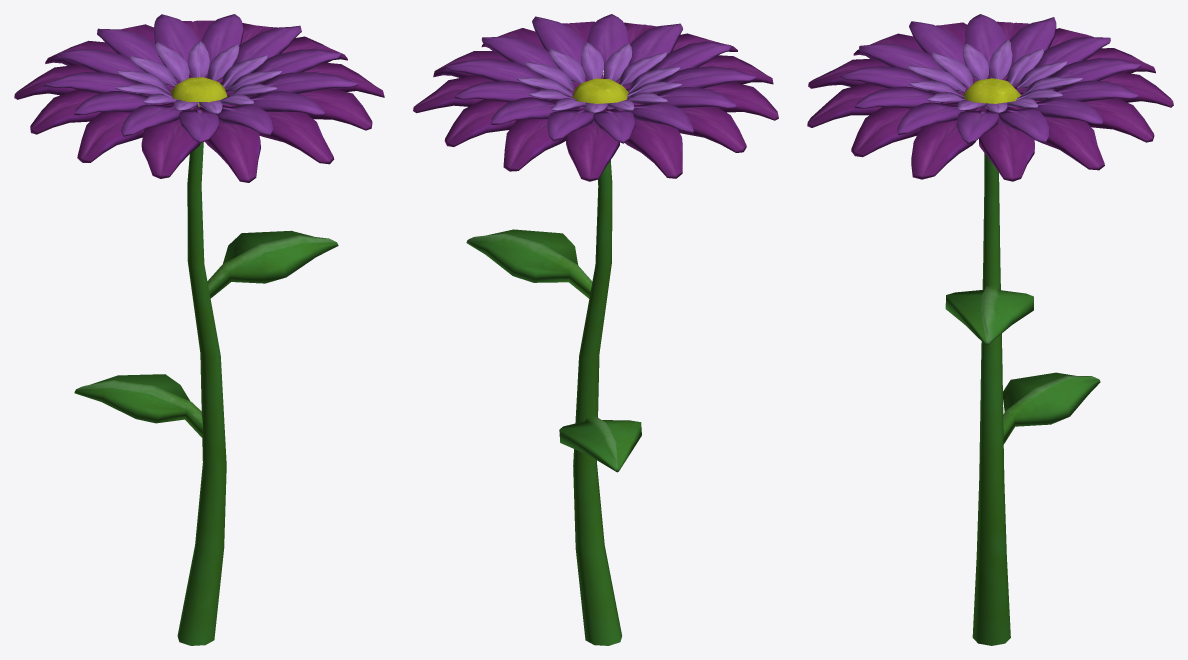
The model's file is FlorRoxa.fbx.
3 views of the same model, side by side, from view 1: azimuth 30°, elevation 25°; view 2: azimuth 150°, elevation 25°; view 3: azimuth 270°, elevation 25° (orthographic).
Visible parts, largest first — view 1: FlorRoxa; view 2: FlorRoxa; view 3: FlorRoxa.
Boxes of the visible parts, left/top/right/bottom form: FlorRoxa: left=14, top=14, right=384, bottom=645; FlorRoxa: left=413, top=14, right=778, bottom=645; FlorRoxa: left=807, top=14, right=1173, bottom=645.
Bounding box in the file's own units: 162 × 279 × 164.
